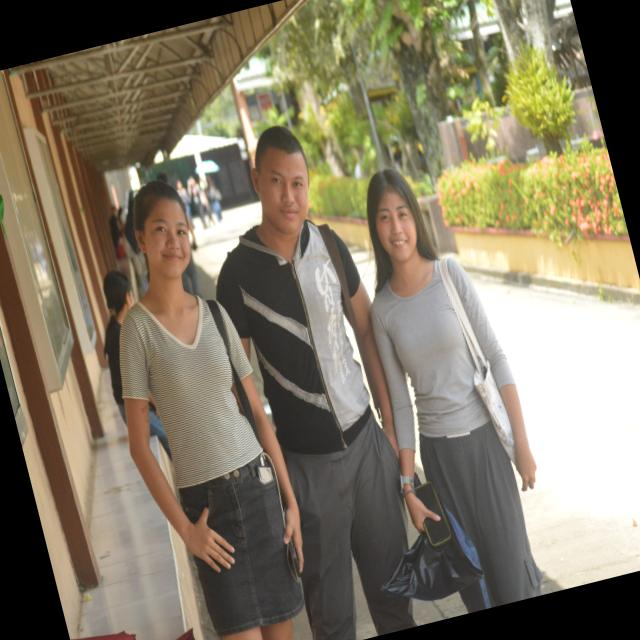person: (216, 127, 414, 639), (120, 181, 303, 639), (366, 169, 541, 605), (103, 271, 133, 423)
